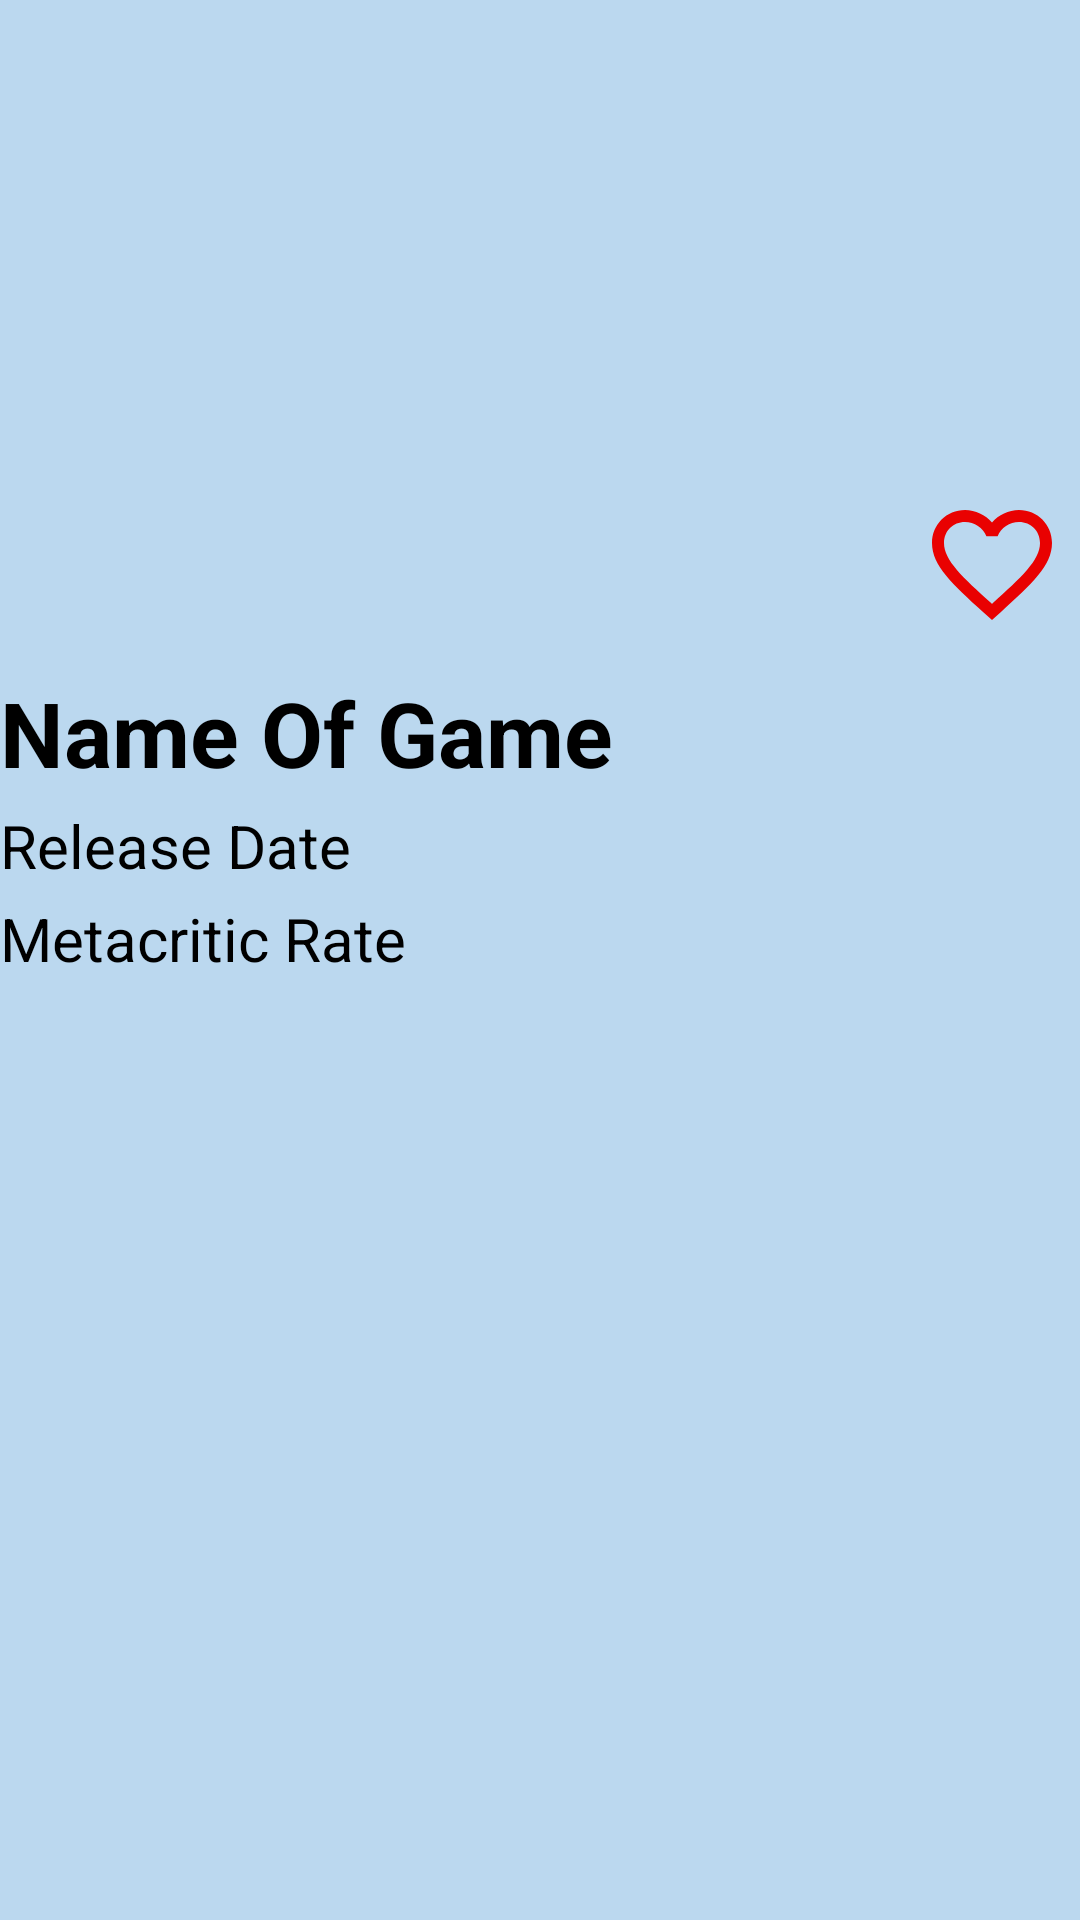

Icon click points for this 1080x1920 phone screenshot, format point (x, y):
favorite: point (992, 565)
